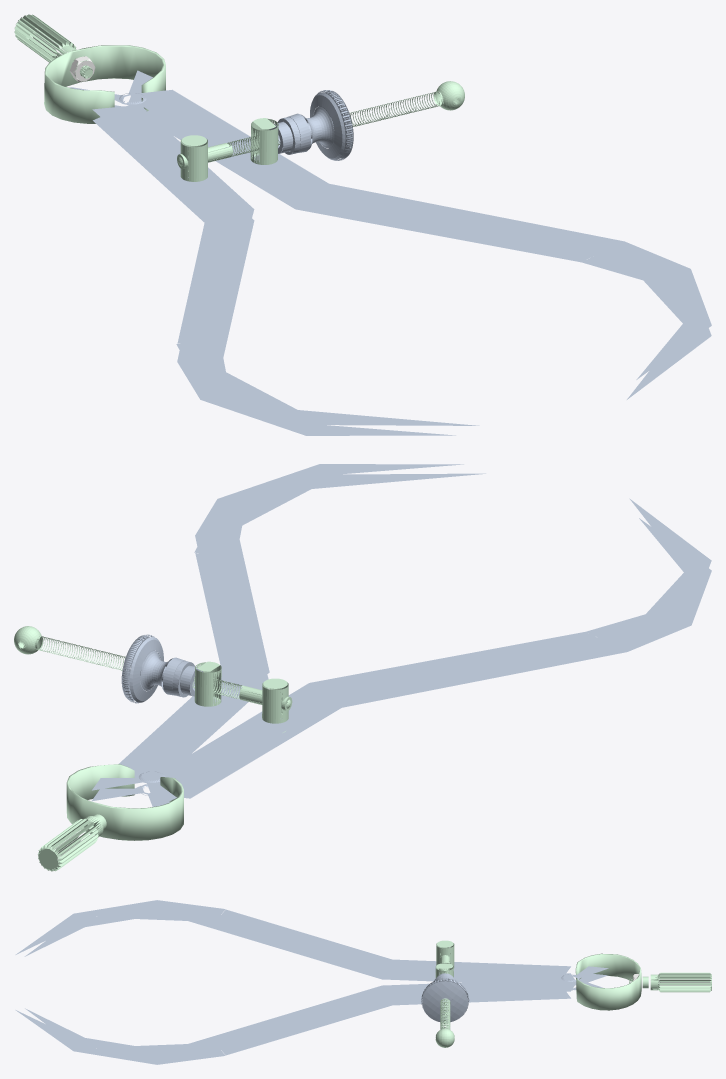
Rendered from caliper.glb.
The picture shows the model from 3 angles, top to bottom: view 1: azimuth 30°, elevation 25°; view 2: azimuth 150°, elevation 25°; view 3: azimuth 270°, elevation 25°; orthographic projection. The views are drawn at different scales.
Parts seen in each view (by area): view 1: Object_0, Object_2; view 2: Object_0, Object_2; view 3: Object_0, Object_2.
Boxes of the visible parts, x1=… form: Object_0: x1=70, y1=70, x2=711, y2=435; Object_2: x1=14, y1=14, x2=464, y2=181; Object_0: x1=91, y1=464, x2=711, y2=806; Object_2: x1=14, y1=626, x2=292, y2=871; Object_0: x1=15, y1=900, x2=608, y2=1064; Object_2: x1=435, y1=940, x2=711, y2=1047.
Bounding box in the file's own units: 0.1069 × 0.0152 × 0.1993.
